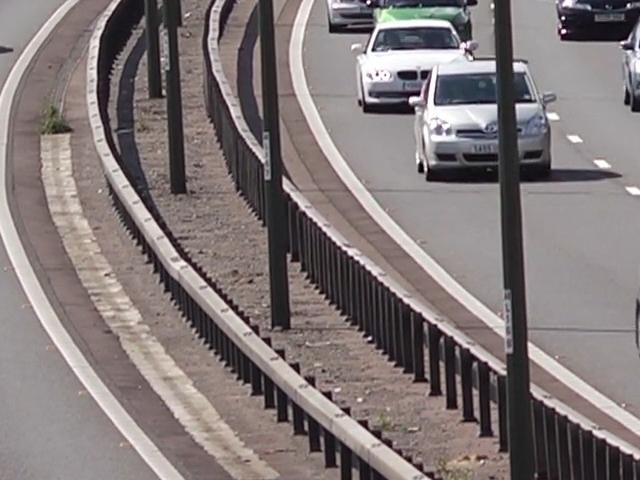car: (410, 60, 562, 183), (348, 20, 485, 110), (372, 0, 477, 46), (551, 0, 640, 43), (323, 0, 418, 31)
